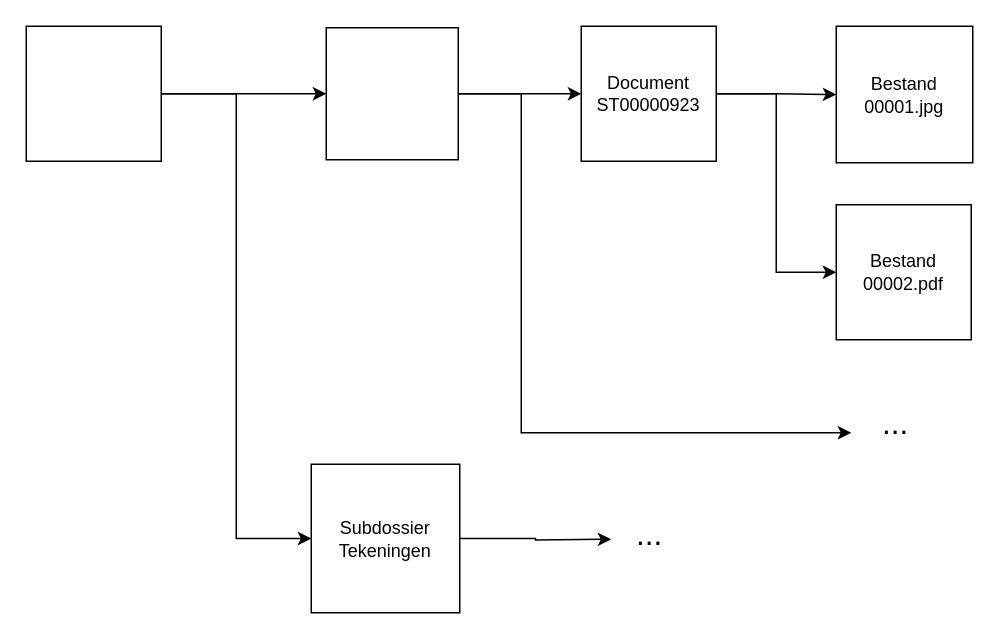
Some shapes in this 999 by 639 pixel diagram are drawn without their labels. The centre of each missing label's shape, as x and y in pixels:
"Dossier Weesperstraat 200 - 272" goes at point 93,93.
"Subdossier Aanvraag en behandeling" goes at point 391,93.
